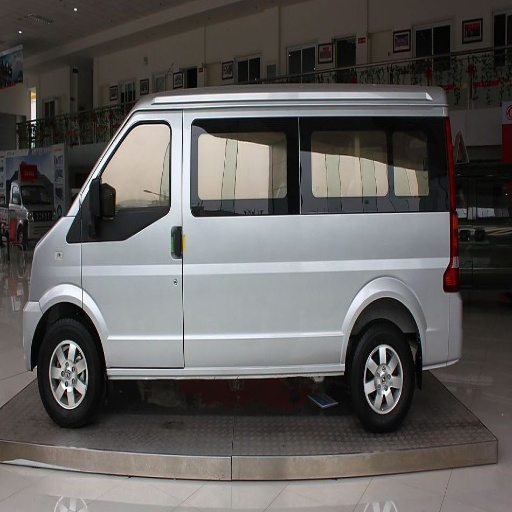back_left_door: (271, 286, 313, 360)
trunk: (309, 257, 456, 363), (304, 217, 428, 251), (137, 265, 179, 327), (186, 278, 228, 319)
